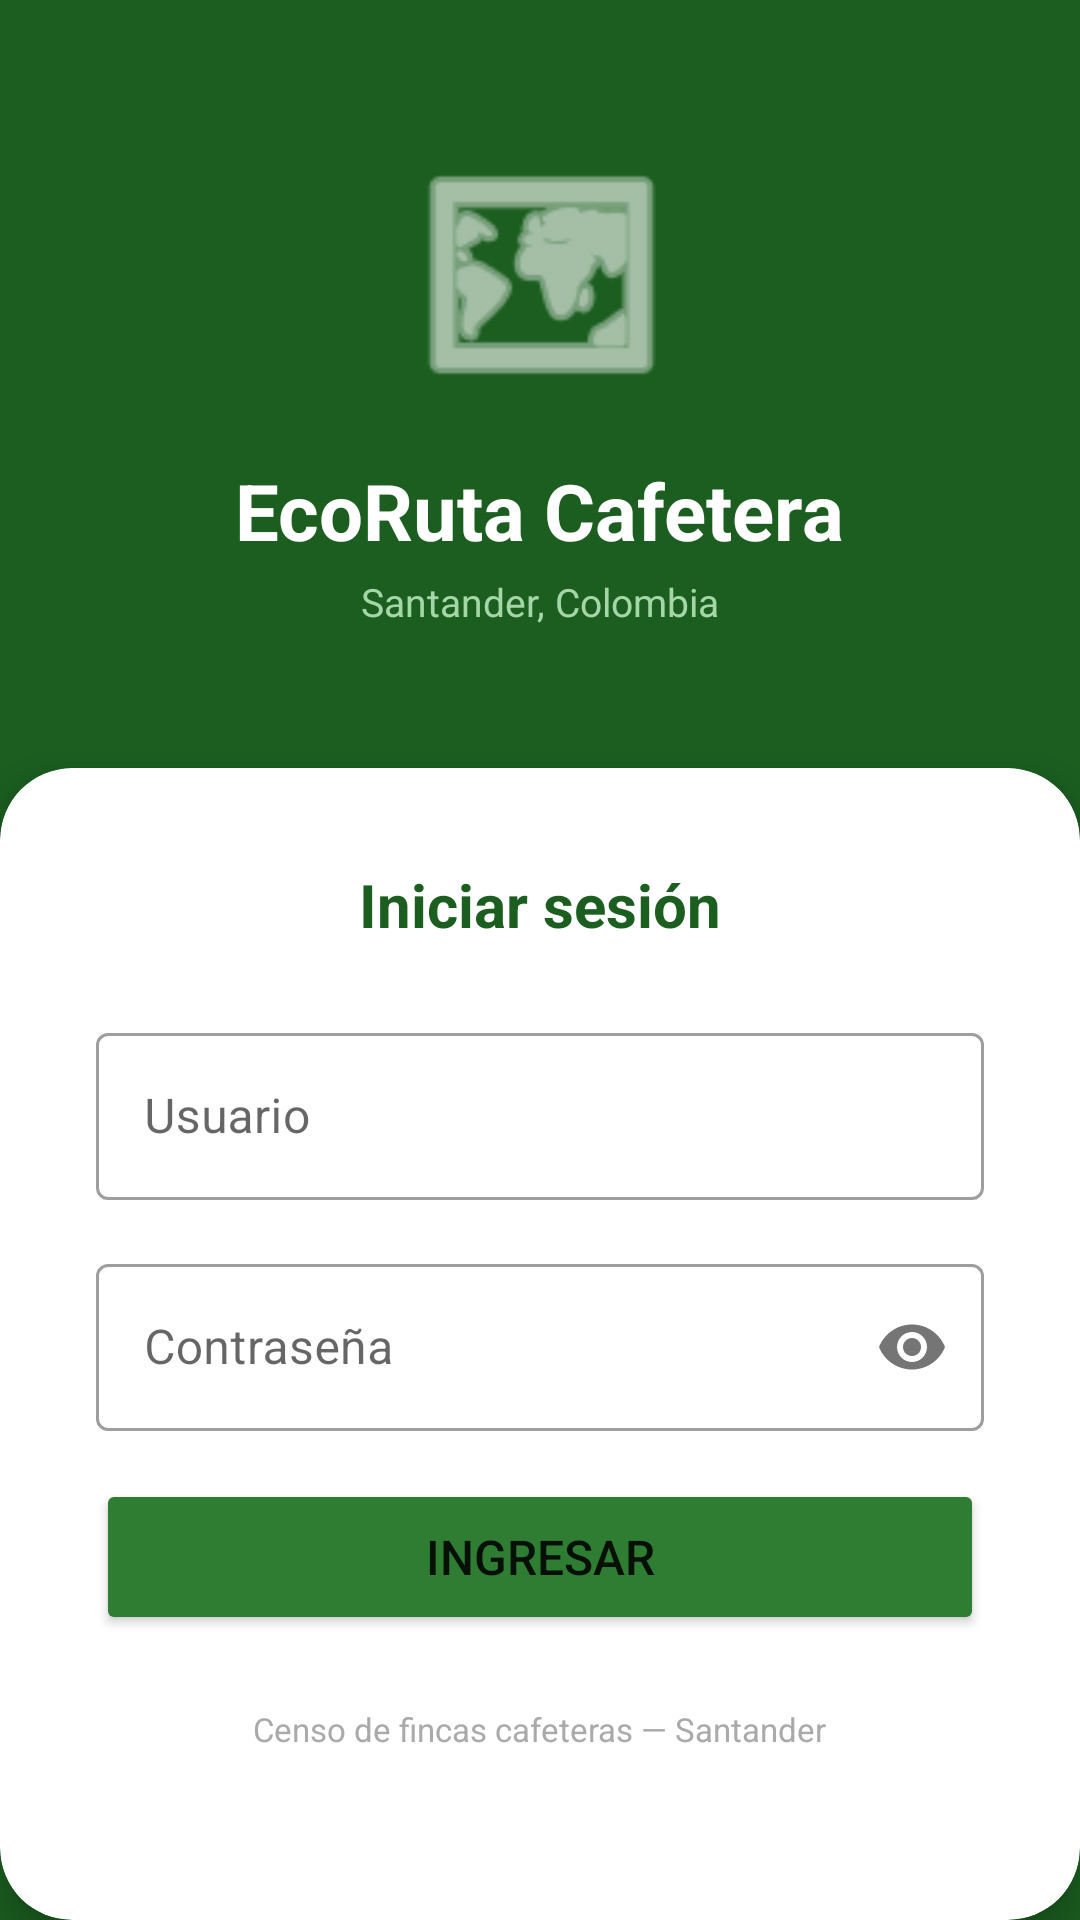

Where to tap for icons on this 1080w x 1920h app screen, as (x=x, y=y):
mapmode: (x=541, y=275)
